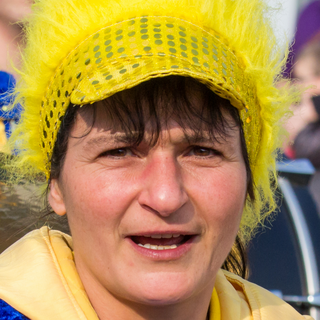eye: (178, 140, 227, 164), (94, 140, 143, 164)
